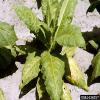Tomato leaf mosaic virus: (9, 5, 48, 45), (40, 51, 65, 100), (19, 47, 40, 86), (57, 27, 87, 50)
